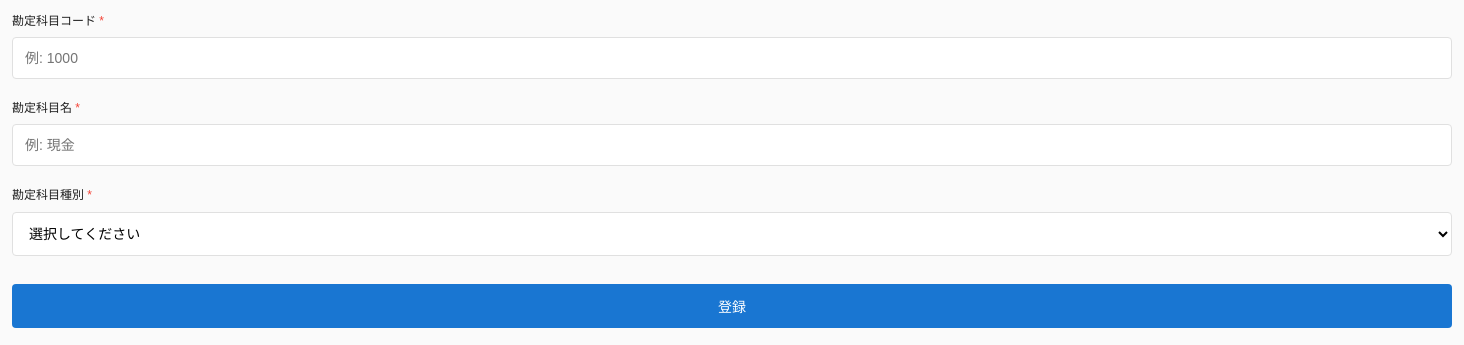
Test: CreateAccountForm › disables form during submission
The image size is (1464, 345).
Type "1000" into the field with test id "create-account-code-input" at coordinates (732, 58), box 12,37 -> 1452,79
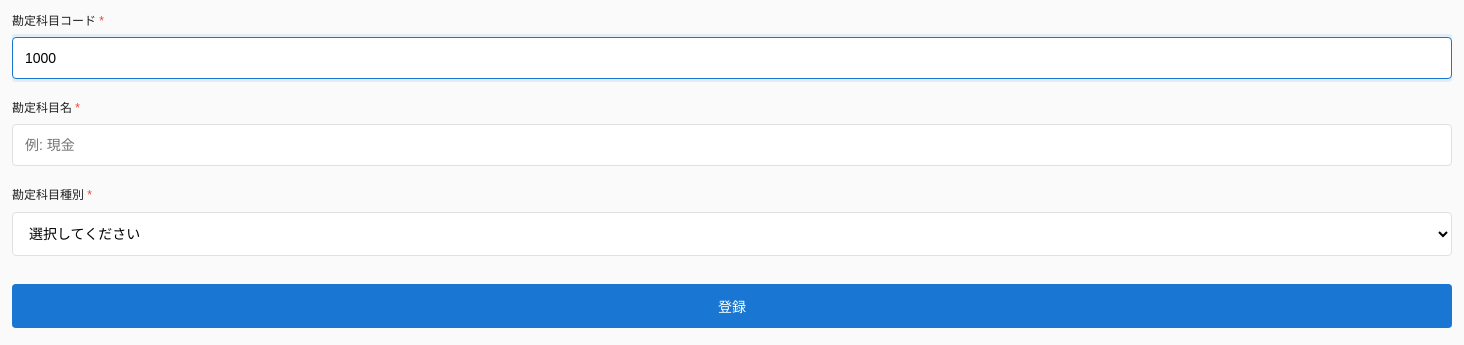
Type "現金" into the field with test id "create-account-name-input" at coordinates (732, 145), box 12,124 -> 1452,166
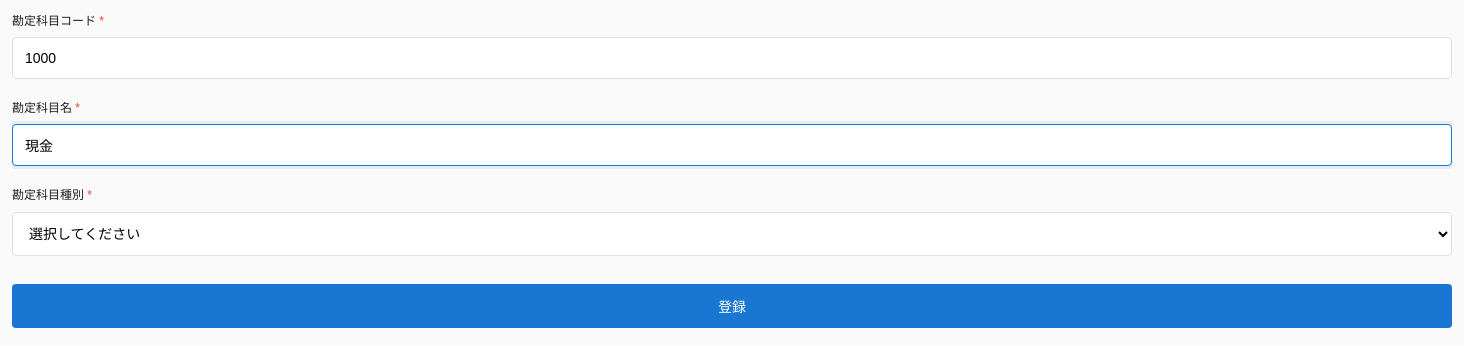
Select "ASSET" in the dropdown with test id "create-account-type-select" at coordinates (732, 234), box 12,212 -> 1452,256
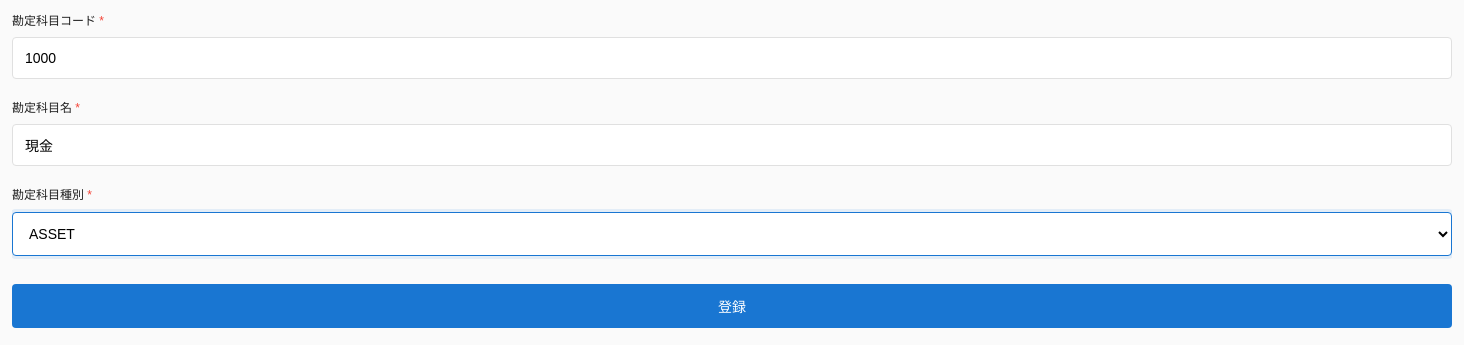
Click the button with test id "create-account-submit" at coordinates (732, 306), box 12,284 -> 1452,328
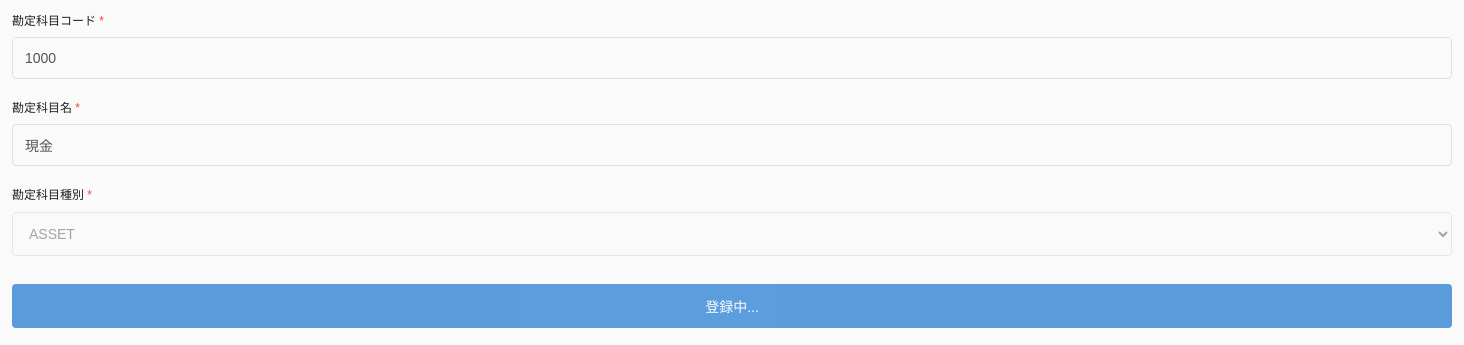
Expected: the field with test id "create-account-code-input" is disabled, 12,37 -> 1452,79
Expected: the field with test id "create-account-name-input" is disabled, 12,124 -> 1452,166
Expected: the dropdown with test id "create-account-type-select" is disabled, 12,212 -> 1452,256
